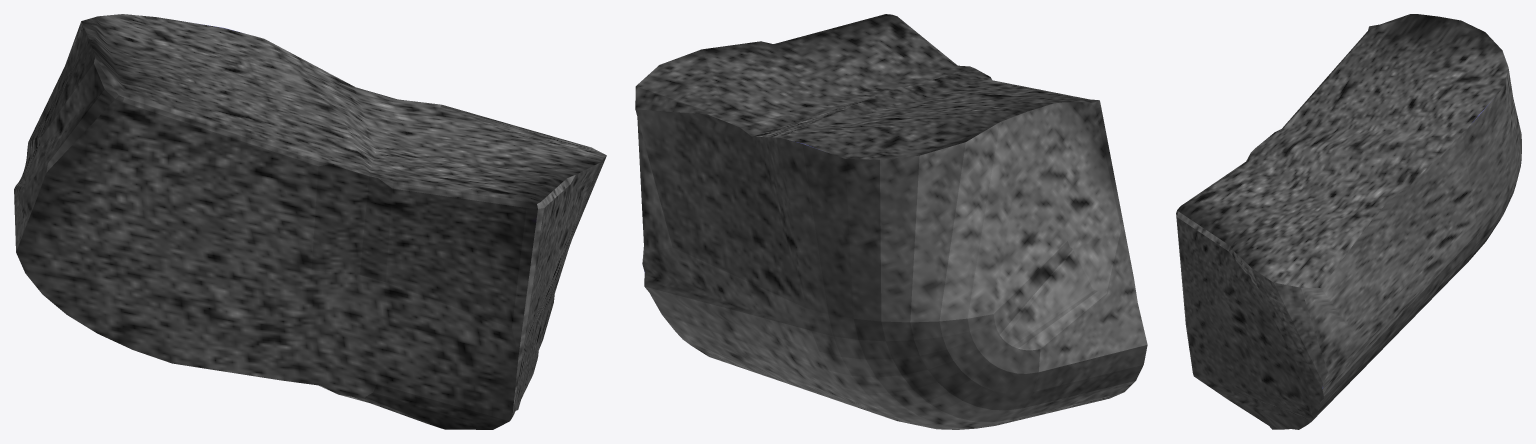
Rendered from bread.gltf.
3 views of the same model, side by side, from view 1: azimuth 30°, elevation 25°; view 2: azimuth 150°, elevation 25°; view 3: azimuth 270°, elevation 25° (orthographic). The views are drawn at different scales.
Visible parts, largest first — view 1: bread low; view 2: bread low; view 3: bread low.
Boxes of the visible parts, x1,y1,x2,y2 form: bread low: (14, 14, 606, 429); bread low: (635, 14, 1147, 429); bread low: (1176, 14, 1521, 429).
Size of the model in its own units: 3.99 by 2.83 by 3.06.
1 material, 1 textured.
